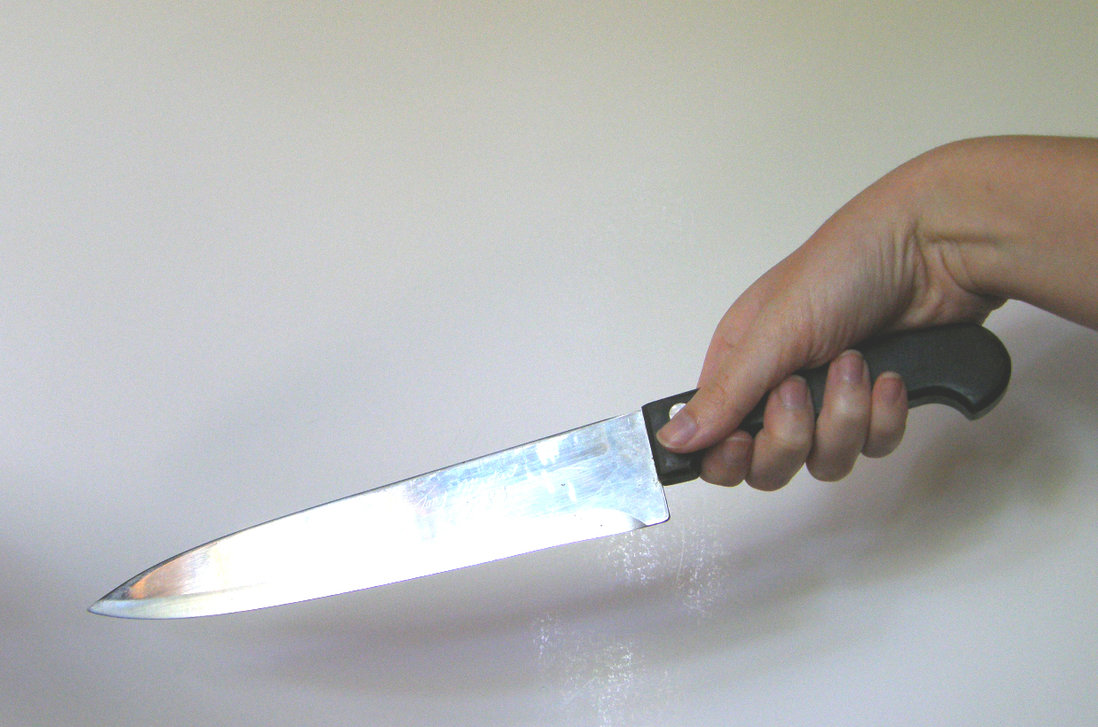knife: (67, 303, 1030, 630)
